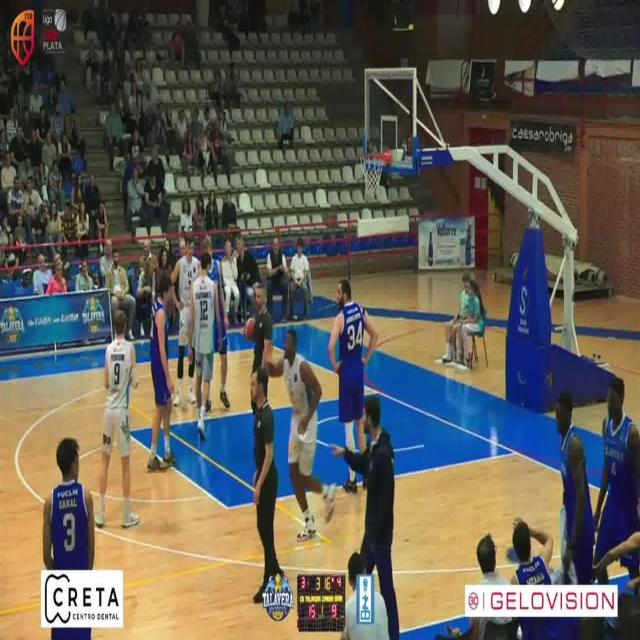ball: (244, 316, 256, 341)
basket: (362, 150, 392, 196)
bench person: (333, 395, 400, 640), (595, 376, 640, 561), (553, 392, 596, 585), (42, 437, 94, 570)
player: (263, 328, 336, 541), (94, 309, 138, 528), (328, 277, 378, 452), (189, 251, 222, 440), (147, 274, 175, 471), (170, 236, 200, 407), (203, 235, 230, 410), (186, 348, 196, 404)
referee: (251, 367, 280, 604), (250, 281, 272, 372)
